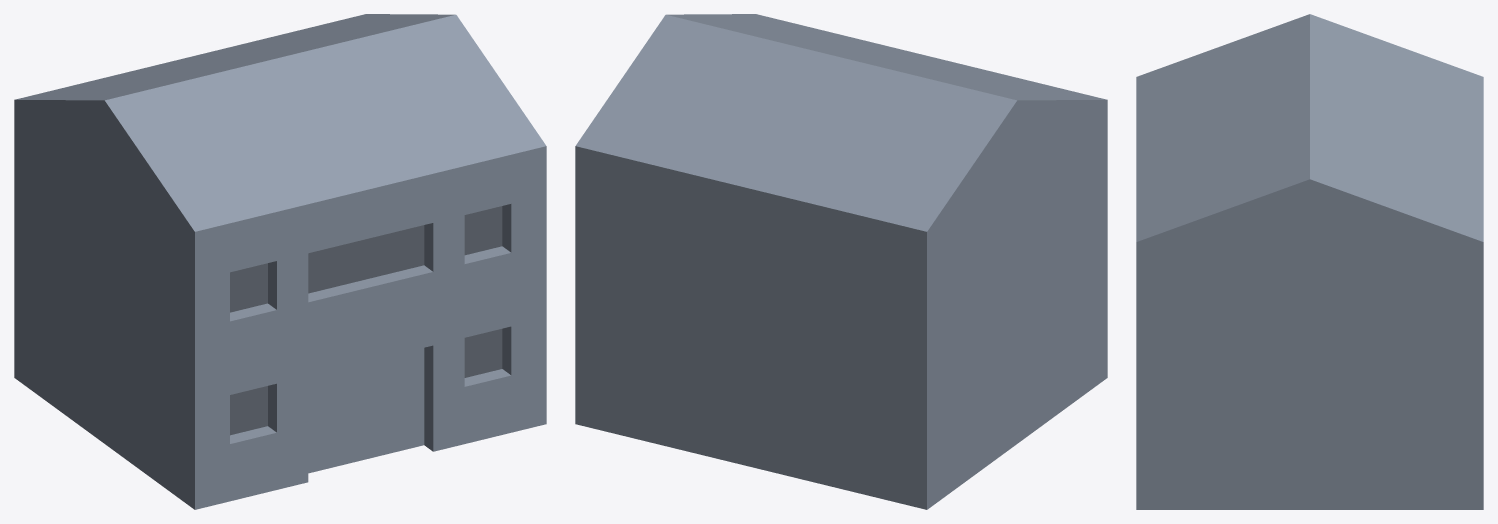
Rendered from Binakapanacak1.gltf.
The picture shows the model from 3 angles, left to right: view 1: azimuth 30°, elevation 25°; view 2: azimuth 150°, elevation 25°; view 3: azimuth 270°, elevation 25°; orthographic projection. The views are drawn at different scales.
Parts seen in each view (by area): view 1: Building_019.017, Building_019.006, Building_019.007, Building_019.008; view 2: Building_019.017, Building_019.006; view 3: Building_019.006, Building_019.017.
Part boxes in pixels (bbox=[...]): Building_019.017: bbox=[14, 14, 546, 509]; Building_019.006: bbox=[16, 14, 538, 509]; Building_019.007: bbox=[308, 348, 424, 473]; Building_019.008: bbox=[230, 206, 502, 435]; Building_019.017: bbox=[575, 14, 1107, 509]; Building_019.006: bbox=[575, 14, 1105, 509]; Building_019.006: bbox=[1136, 14, 1483, 509]; Building_019.017: bbox=[1136, 14, 1483, 236].
Size of the model in its own units: 0.0489 by 0.0457 by 0.0435.
